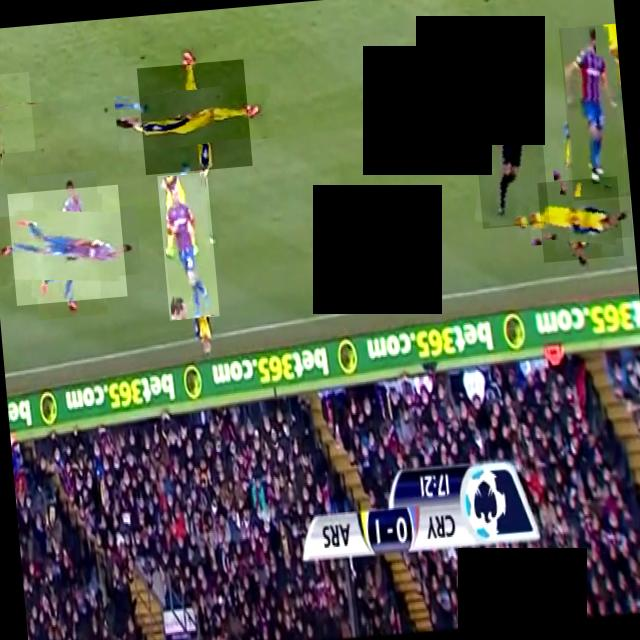referee: (468, 61, 548, 228)
soccer-player: (6, 183, 126, 304), (135, 58, 251, 174), (558, 22, 630, 200), (156, 170, 218, 320), (536, 175, 622, 262), (0, 70, 34, 153)
